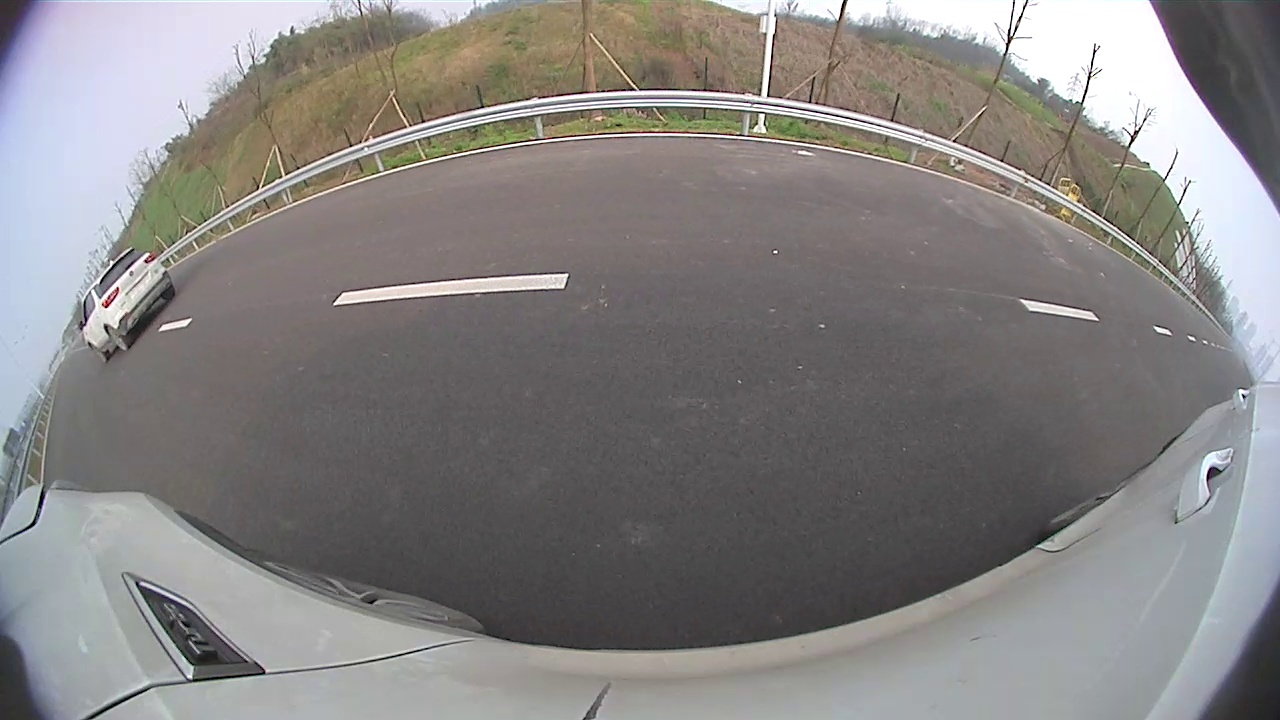car: (99, 145, 270, 293)
front: (148, 236, 187, 280)
rear: (109, 261, 138, 293)
